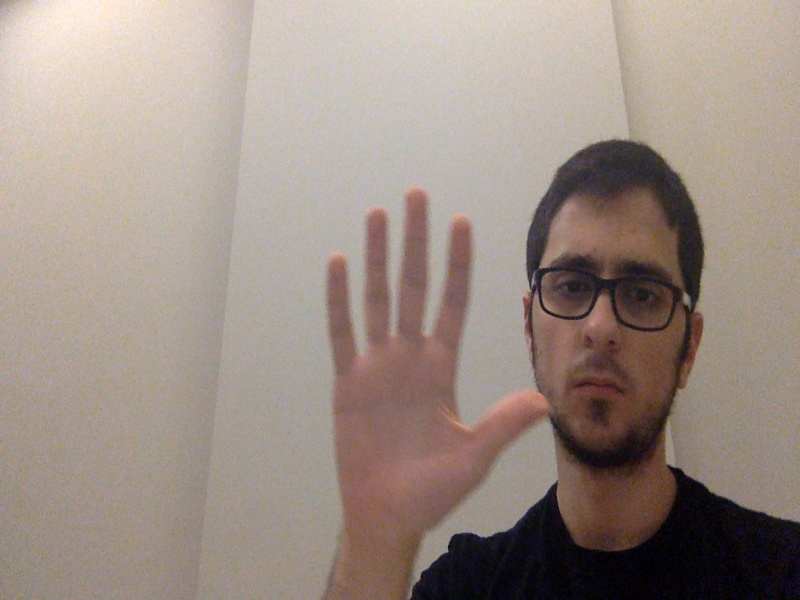5-hand: (321, 187, 551, 558)
